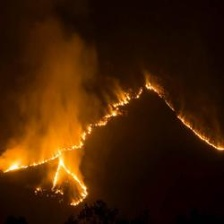fire: (131, 72, 224, 153), (1, 145, 95, 207), (71, 93, 127, 145)
